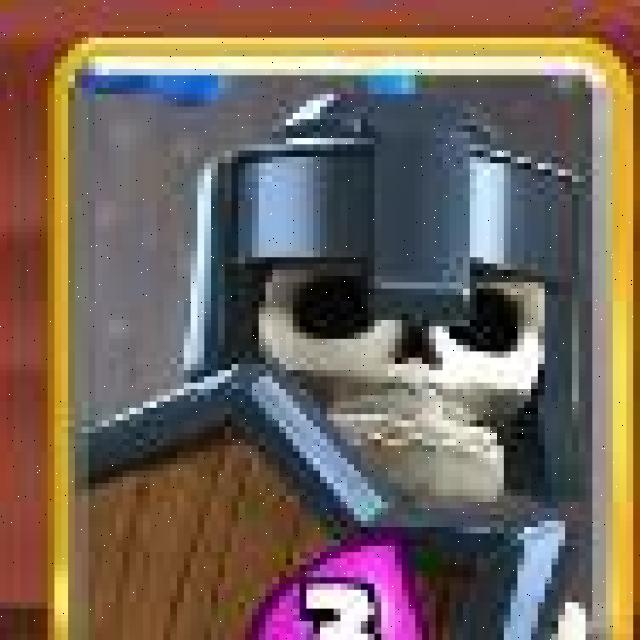Guards: (52, 36, 633, 640)
